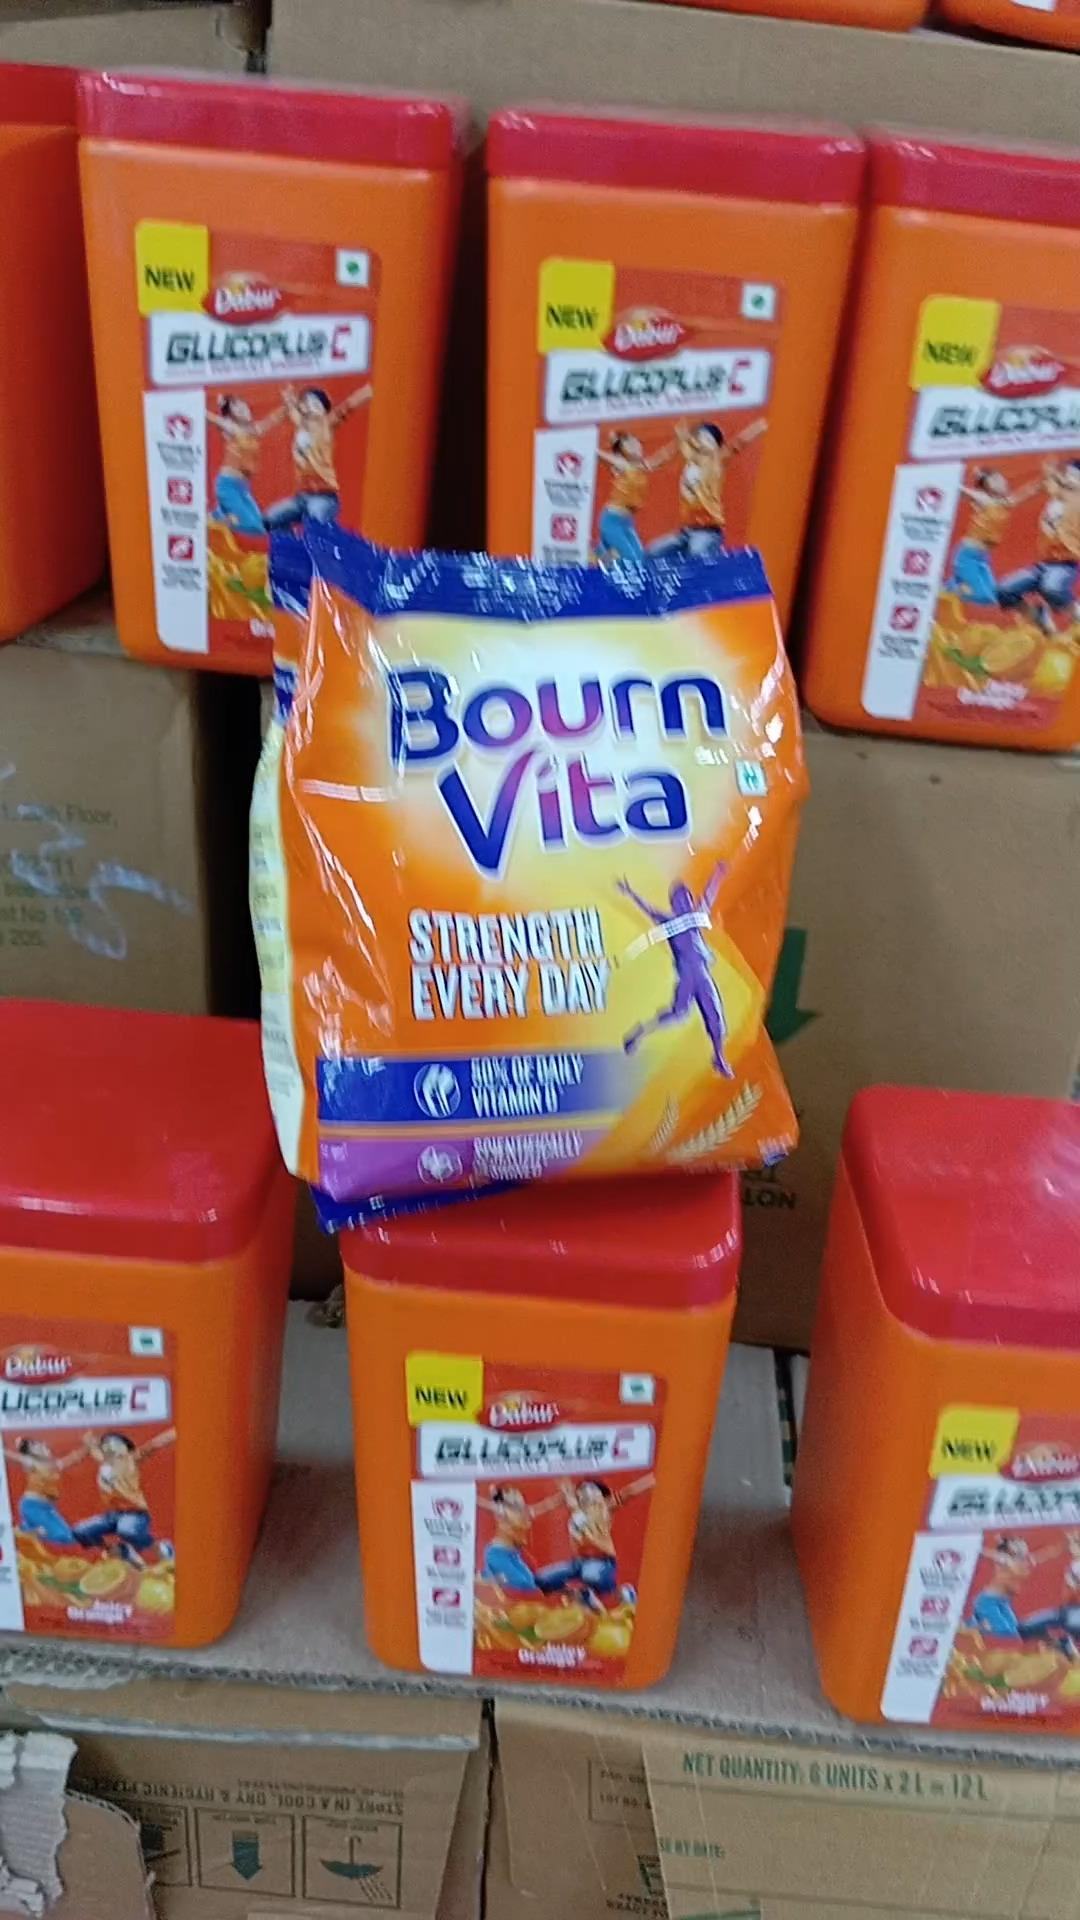BOURN_VITA_500_G_POUCH: (255, 500, 811, 1191)
